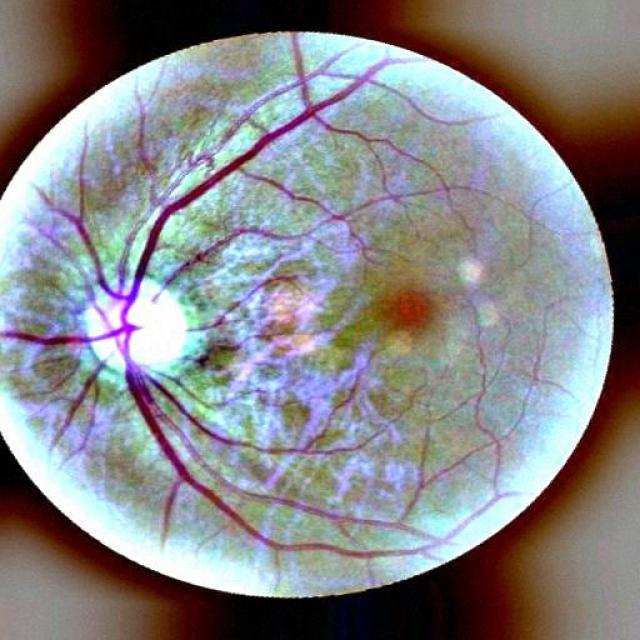Macula: (390, 290, 431, 329)
Nerves: (0, 34, 431, 558), (151, 226, 309, 300), (189, 274, 295, 368), (52, 360, 106, 442), (131, 96, 158, 190)
Optic Disk: (78, 275, 188, 368)
